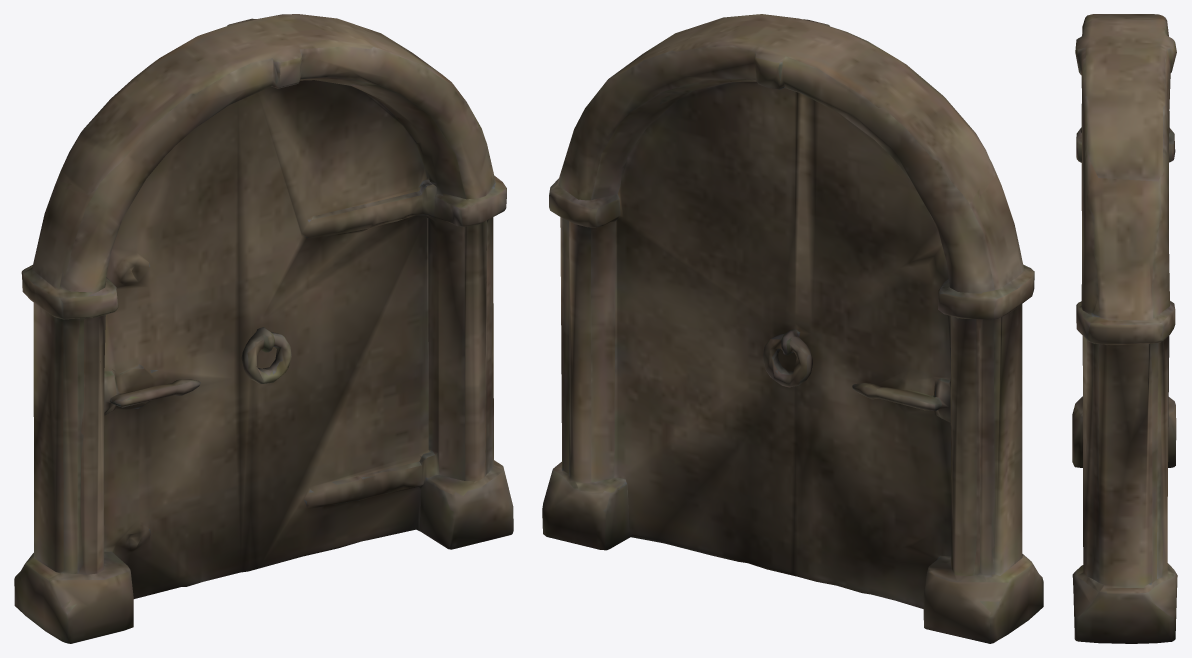
File: ancient-wood-castle-door-v001.glb
3 views of the same model, side by side, from view 1: azimuth 30°, elevation 25°; view 2: azimuth 150°, elevation 25°; view 3: azimuth 270°, elevation 25° (orthographic). The views are drawn at different scales.
Parts seen in each view (by area): view 1: ancient-wood-castle-door; view 2: ancient-wood-castle-door; view 3: ancient-wood-castle-door.
Part boxes in pixels (<box>): ancient-wood-castle-door: <box>14,14,513,643</box>; ancient-wood-castle-door: <box>542,14,1043,643</box>; ancient-wood-castle-door: <box>1072,14,1177,643</box>.
Size of the model in its own units: 2.03 by 2.26 by 0.4287.
Materials: 1 (1 with a texture image).
